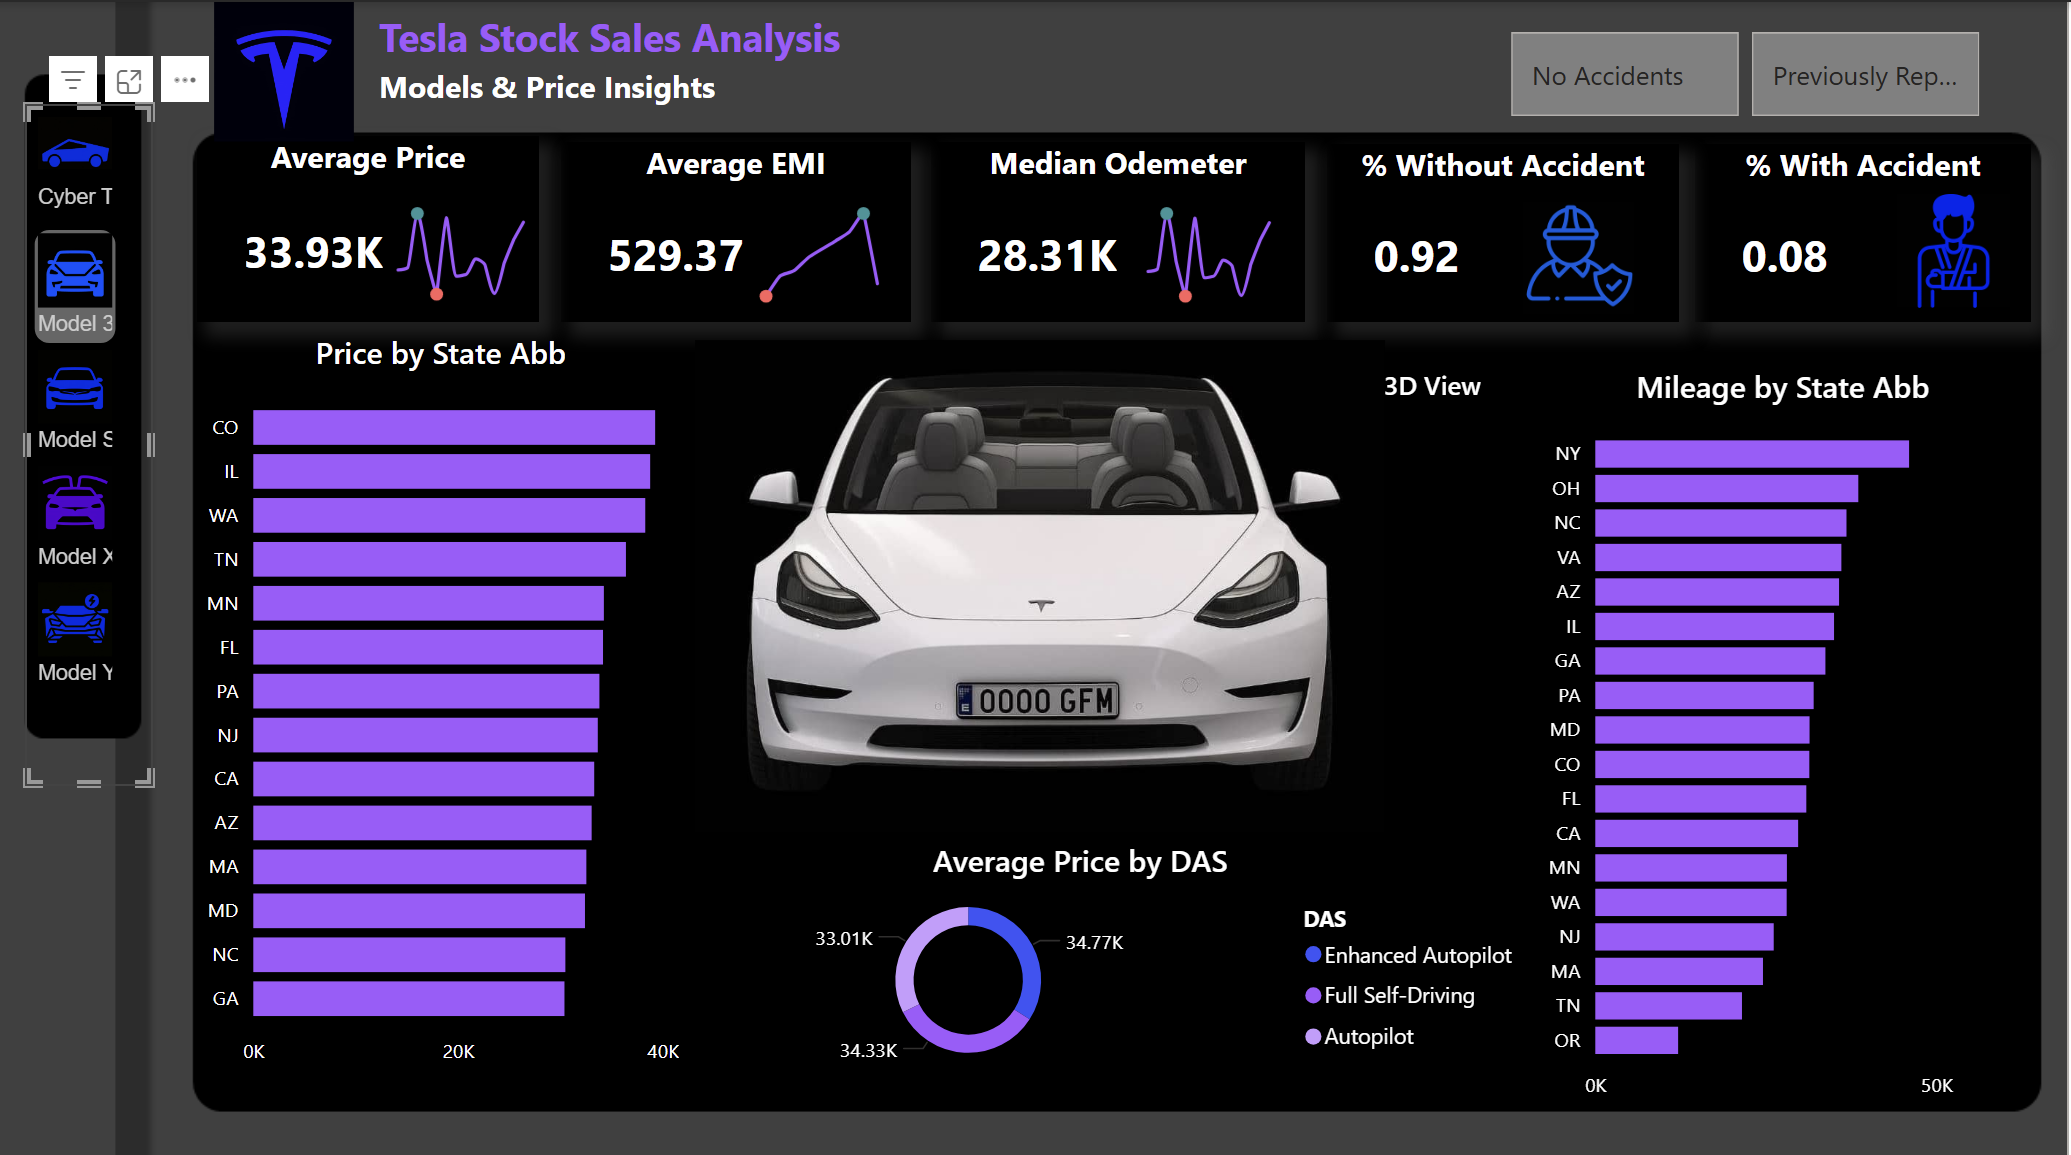

The dashboard page shown, as its layout file describes it:
{"tool":"powerbi","page":{"name":"Page 1","canvas":[1280,720],"ordinal":0},"visuals":[{"type":"cardVisual","title":"Average Price","fields":{"Data":["Tesla Stock Dataset.AveragePrice"]},"box":[122.6,82.9,211.7,115.1],"z":0},{"type":"cardVisual","title":"Median Odemeter","fields":{"Data":["Tesla Stock Dataset.MedianOdometer"]},"box":[576.9,86.7,231.5,111.4],"z":1000},{"type":"cardVisual","title":"Average EMI","fields":{"Data":["Tesla Stock Dataset.AverageEMI"]},"box":[347.9,86.7,216.6,111.4],"z":2000},{"type":"cardVisual","title":"% With Accident","fields":{"Data":["Tesla Stock Dataset.PercentWithAccident"]},"box":[1049.7,87.9,208,110.2],"z":3000},{"type":"cardVisual","title":"% Without Accident","fields":{"Data":["Tesla Stock Dataset.PercentNoAccident"]},"box":[822,87.9,217.9,110.2],"z":4000},{"type":"PBI_CV_25997FEB_F466_44FA_B562_AC4063283C4C","fields":{"axis":["Tesla Stock Dataset.State"],"measure":["Tesla Stock Dataset.AveragePrice"]},"box":[229,113.9,117.6,78],"z":5000},{"type":"PBI_CV_25997FEB_F466_44FA_B562_AC4063283C4C","fields":{"axis":["Tesla Stock Dataset.State"],"measure":["Tesla Stock Dataset.AverageEMI"]},"box":[693.2,113.9,115.1,79.2],"z":6000},{"type":"PBI_CV_25997FEB_F466_44FA_B562_AC4063283C4C","fields":{"axis":["Tesla Stock Dataset.OdometerBin"],"measure":["Tesla Stock Dataset.MedianOdometer"]},"box":[456.8,113.9,108.9,79.2],"z":7000},{"type":"image","box":[916.1,123.8,123.8,69.3],"z":8000},{"type":"image","box":[1163.6,118.8,92.8,70.6],"z":9000},{"type":"ChicletSlicer1448559807354","fields":{"Category":["ModelSelector_Slicer.model"],"Image":["ModelSelector_Slicer.Icon Url"]},"box":[16.1,63.1,79.2,422.1],"z":10000},{"type":"simpleImageEBC4593F96F1425FB3D84C5BF02B5075","fields":{"imageURL":["ModelSelector_Slicer.image url"]},"box":[425.5,204.1,608.9,314.8],"z":11000},{"type":"barChart","title":"Price by State Abb","fields":{"Category":["Tesla Stock Dataset.State Abb"],"Y":["Tesla Stock Dataset.AveragePrice"]},"box":[121.1,204.1,304.4,463.6],"z":12000},{"type":"barChart","title":"Mileage by State Abb","fields":{"Category":["Tesla Stock Dataset.State Abb"],"Y":["Avg(Tesla Stock Dataset.odometer)"]},"box":[951.4,224.9,304.4,463.6],"z":13000},{"type":"donutChart","title":"Average Price by DAS","fields":{"Category":["Tesla Stock Dataset.DAS"],"Y":["Tesla Stock Dataset.AveragePrice"]},"box":[387.5,518.9,563.9,148.8],"z":14000},{"type":"actionButton","box":[823.4,200.6,128,72.6],"z":15000},{"type":"textbox","box":[230.3,0,335.5,43.3],"z":16000},{"type":"textbox","box":[230.3,34.7,300.8,40.9],"z":17000},{"type":"image","box":[112.6,0,127.5,86.7],"z":18000},{"type":"advancedSlicerVisual","fields":{"Values":["Tesla Stock Dataset.accident_history"]},"box":[930.6,13.8,301,62.3],"z":19000}]}

Visuals, with their boxes on the page's 1280x720 design canvas (x1, y1, x2, y2). These are canvas units, not pixel positions in the 2071x1155 screenshot, which may show the page scaled, cropped or inside an application window:
"Average Price" cardVisual: left=123, top=83, right=334, bottom=198
"Median Odemeter" cardVisual: left=577, top=87, right=808, bottom=198
"Average EMI" cardVisual: left=348, top=87, right=564, bottom=198
"% With Accident" cardVisual: left=1050, top=88, right=1258, bottom=198
"% Without Accident" cardVisual: left=822, top=88, right=1040, bottom=198
PBI_CV_25997FEB_F466_44FA_B562_AC4063283C4C - Tesla Stock Dataset.State x Tesla Stock Dataset.AveragePrice: left=229, top=114, right=347, bottom=192
PBI_CV_25997FEB_F466_44FA_B562_AC4063283C4C - Tesla Stock Dataset.State x Tesla Stock Dataset.AverageEMI: left=693, top=114, right=808, bottom=193
PBI_CV_25997FEB_F466_44FA_B562_AC4063283C4C - Tesla Stock Dataset.OdometerBin x Tesla Stock Dataset.MedianOdometer: left=457, top=114, right=566, bottom=193
image: left=916, top=124, right=1040, bottom=193
image: left=1164, top=119, right=1256, bottom=189
ChicletSlicer1448559807354 - ModelSelector_Slicer.model x ModelSelector_Slicer.Icon Url: left=16, top=63, right=95, bottom=485
simpleImageEBC4593F96F1425FB3D84C5BF02B5075 - ModelSelector_Slicer.image url: left=426, top=204, right=1034, bottom=519
"Price by State Abb" barChart: left=121, top=204, right=426, bottom=668
"Mileage by State Abb" barChart: left=951, top=225, right=1256, bottom=688
"Average Price by DAS" donutChart: left=388, top=519, right=951, bottom=668
actionButton: left=823, top=201, right=951, bottom=273
textbox: left=230, top=0, right=566, bottom=43
textbox: left=230, top=35, right=531, bottom=76
image: left=113, top=0, right=240, bottom=87
advancedSlicerVisual - Tesla Stock Dataset.accident_history: left=931, top=14, right=1232, bottom=76
